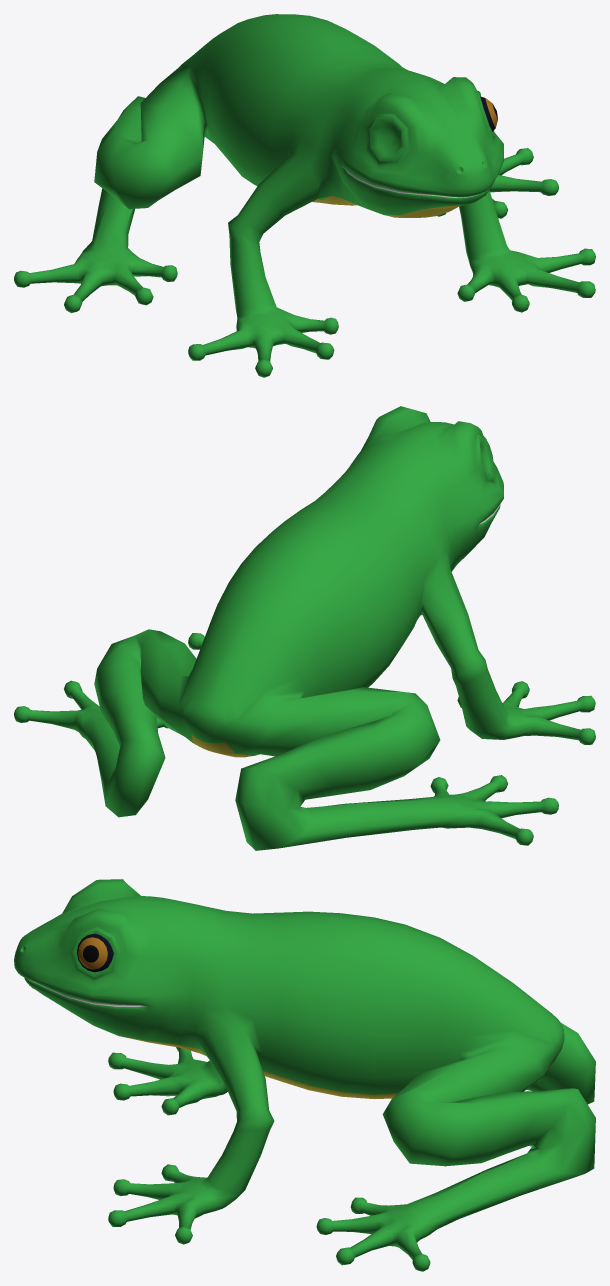
Rendered from frog.obj.
3 renders of one model, top to bottom at view 1: azimuth 30°, elevation 25°; view 2: azimuth 150°, elevation 25°; view 3: azimuth 270°, elevation 25°, orthographic.
Parts seen in each view (by area): view 1: frog; view 2: frog; view 3: frog, eye.
Boxes of the visible parts, left/top/right/bottom form: frog: left=14, top=14, right=595, bottom=377; frog: left=14, top=406, right=595, bottom=850; frog: left=14, top=879, right=595, bottom=1271; eye: left=76, top=933, right=113, bottom=972.
Bounding box in the file's own units: 0.1118 × 0.0521 × 0.1089.
